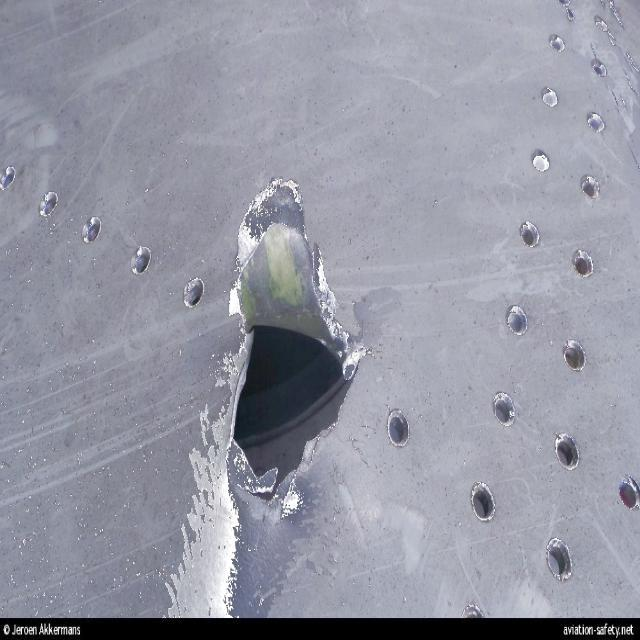crack: (220, 180, 376, 514), (605, 2, 627, 33), (567, 7, 580, 26)
